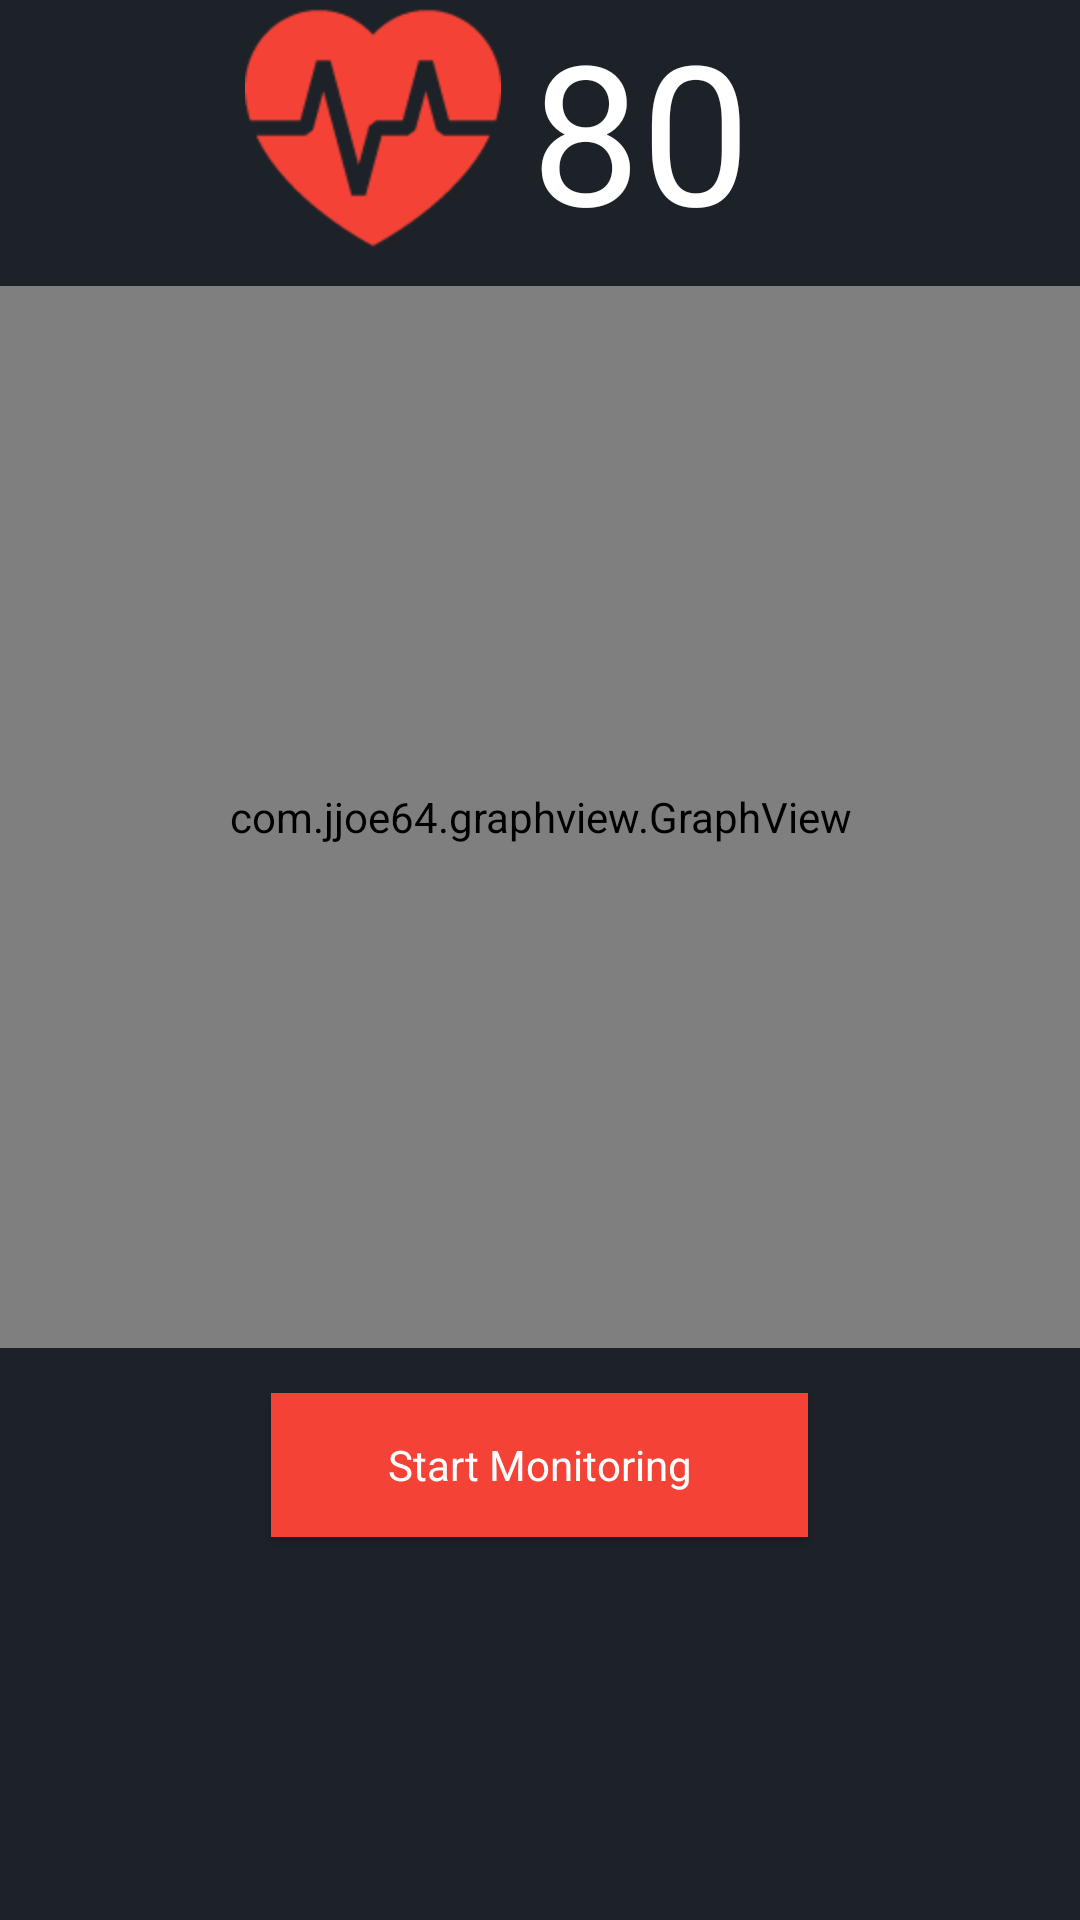

Named icons in this screenshot (1080x1920) and their centers, (x=x, y=y):
heart: (x=373, y=128)
